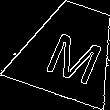M_N: (36, 18, 104, 82)
